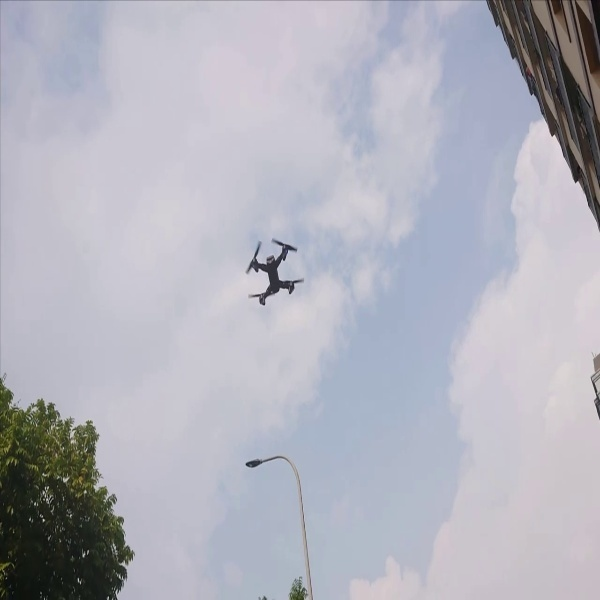drone: (228, 214, 315, 316)
